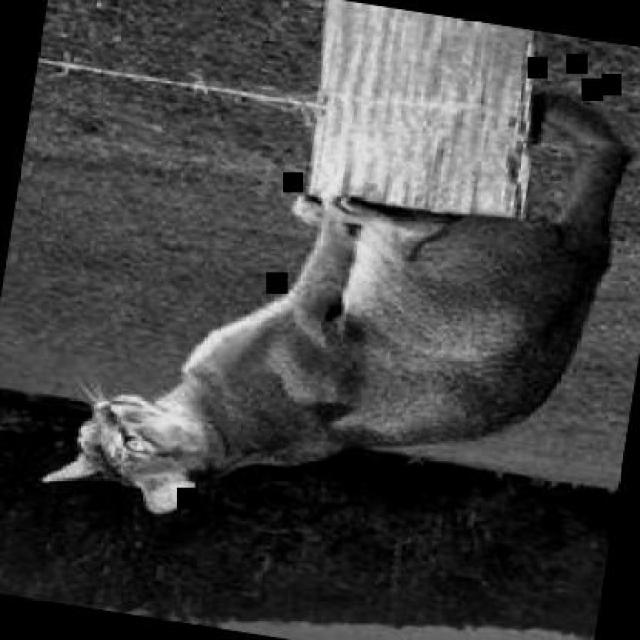cat: (36, 20, 638, 578)
